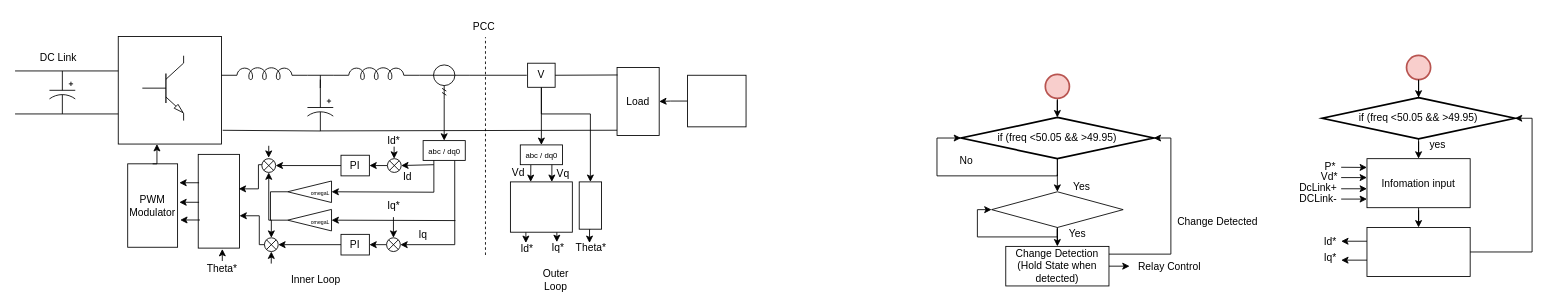
Image size: 1554x307. Some labels were removed from this diagram. The shapes that lost their labels are listed below. From the top down, each one's centre as x and y in pixels, then its label:
At pixel 716 100: "Ideal AC Source".
At pixel 218 201: "dq0/abc".
At pixel 541 206: "Reference Generator".
At pixel 590 205: "PLL".
At pixel 1057 209: "ZeroCross=1".
At pixel 1418 251: "Reference Generation".
